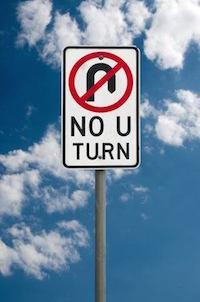no_u_turn: (67, 50, 132, 112)
